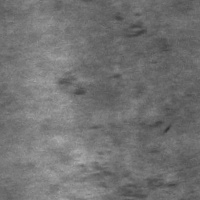rolled-in_scale: (78, 151, 186, 199), (89, 110, 173, 155), (52, 58, 128, 100), (111, 8, 148, 41)
